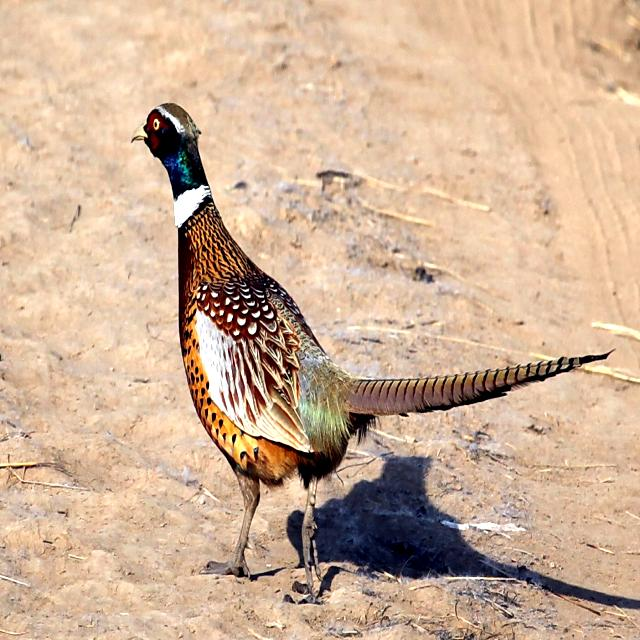Phasianus Colchicus: (352, 350, 615, 413)
